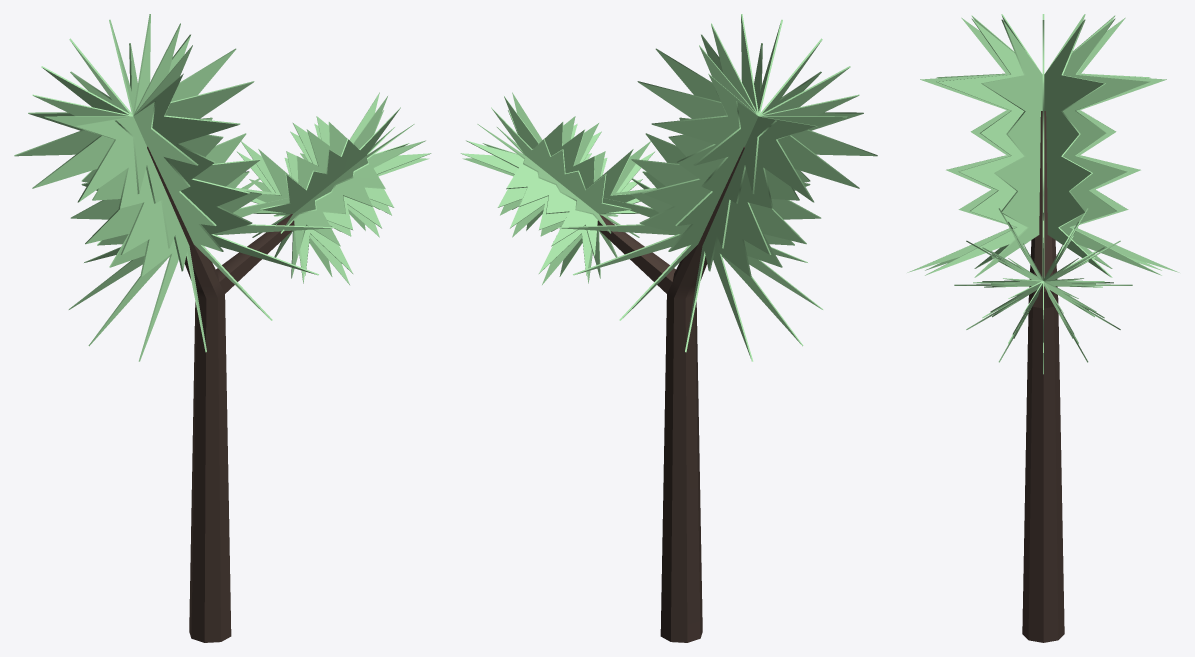
The model's file is tree3.fbx.
3 renders of one model, left to right at view 1: azimuth 30°, elevation 25°; view 2: azimuth 150°, elevation 25°; view 3: azimuth 270°, elevation 25°, orthographic. The views are drawn at different scales.
Visible parts, largest first — view 1: polySurface47; view 2: polySurface47; view 3: polySurface47.
Part boxes in pixels (x1,y1,x2,y2): polySurface47: (14,14,431,642); polySurface47: (460,14,877,642); polySurface47: (907,14,1179,642).
Size of the model in its own units: 897 by 1359 by 563.
